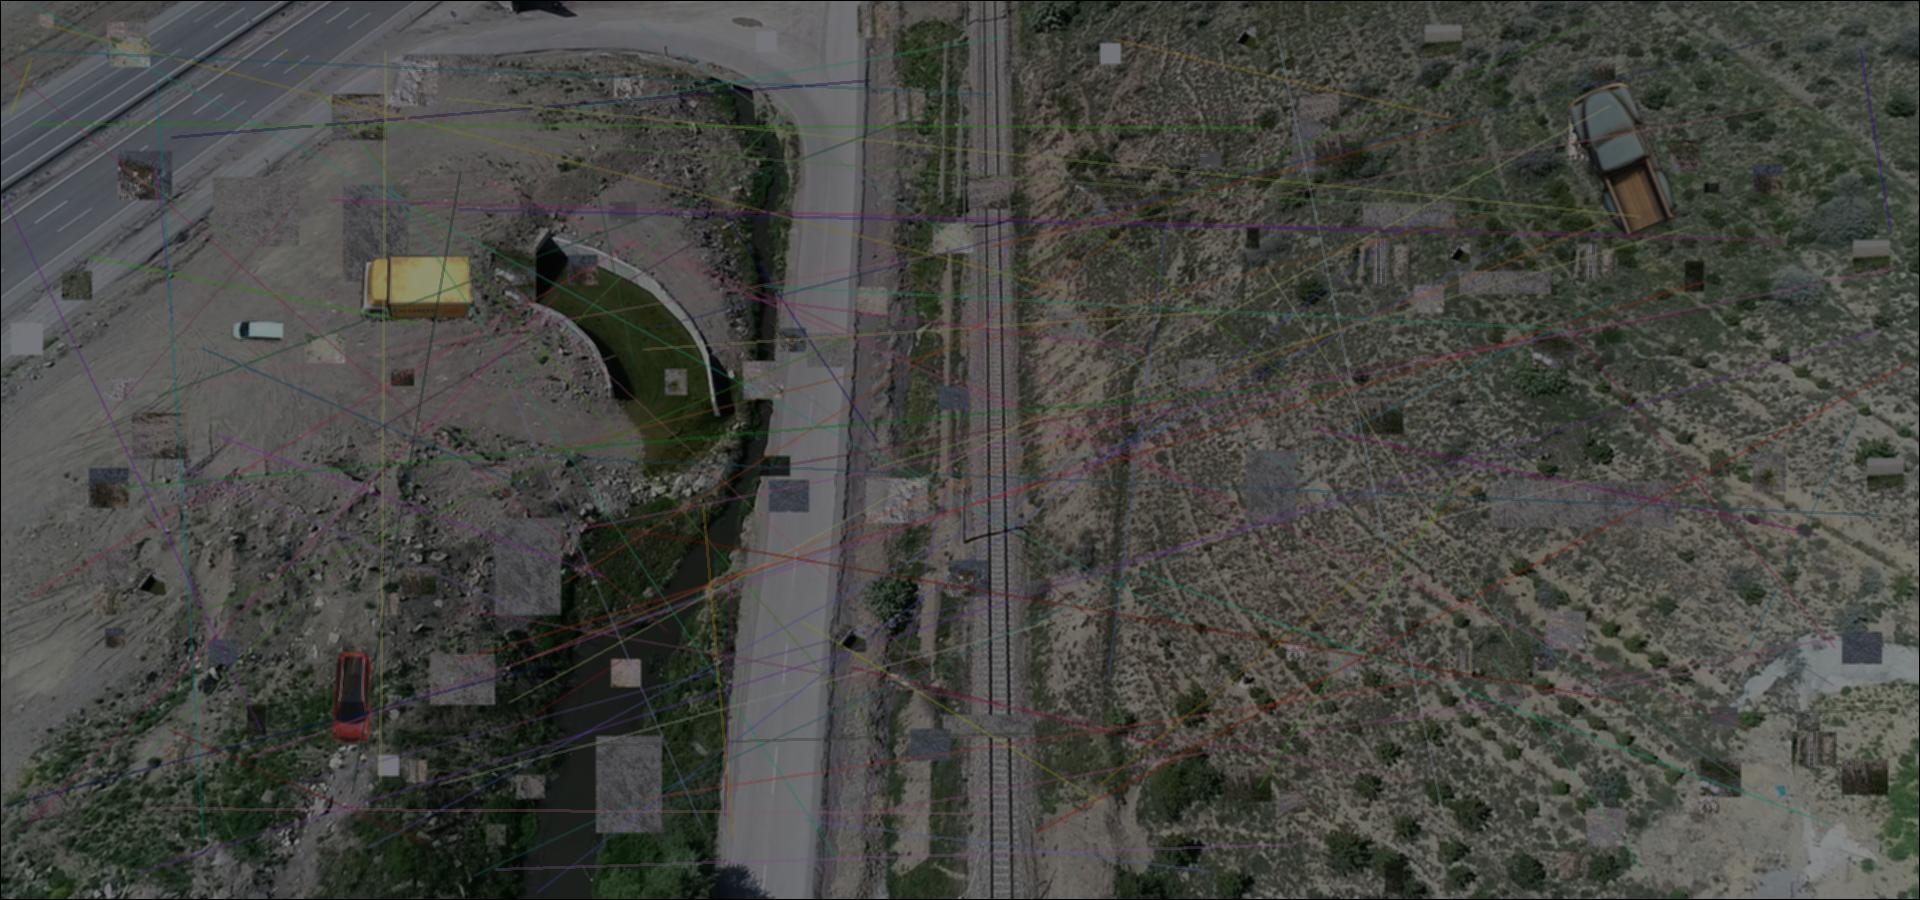arac: (1565, 80, 1680, 241), (360, 253, 473, 326), (327, 650, 373, 747), (231, 320, 287, 343)
